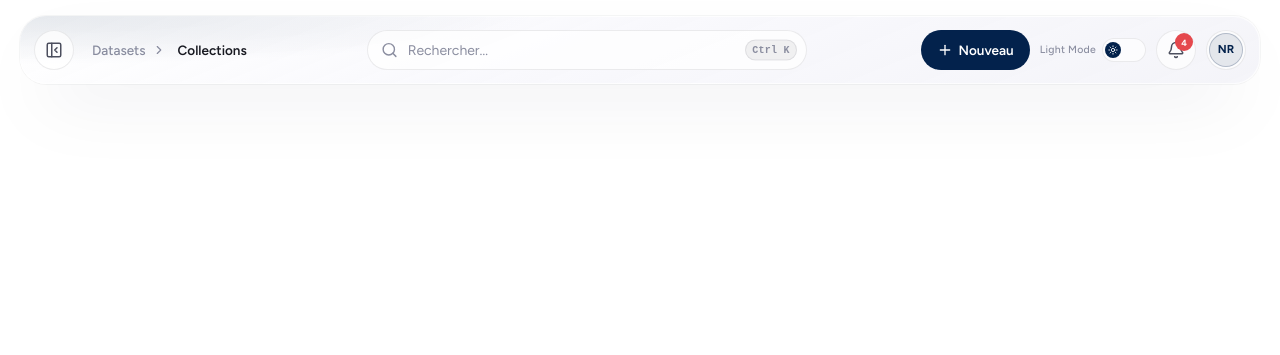
Test: Navbar — menus déroulants › ouvre les notifications et referme au clic extérieur
Click the button named "Notifications".
click(1176, 50)  # box [1156,30,1196,70]
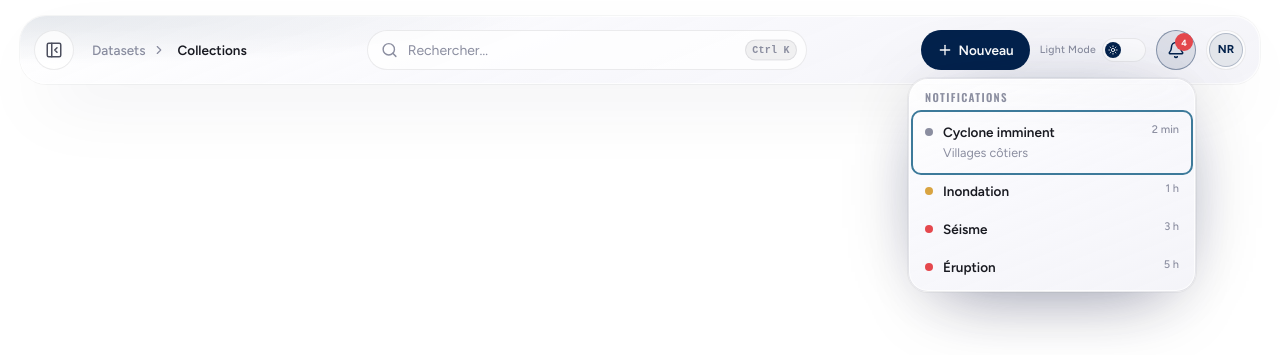
expect the menu "Notifications" is shown: met, box [908,78,1196,292]
expect the menu item "Cyclone imminent Villages côtiers 2 min" is shown: met, box [915,114,1189,170]
Click the element that starts with "Datasets".
click(640, 44)  # box [0,0,1279,88]
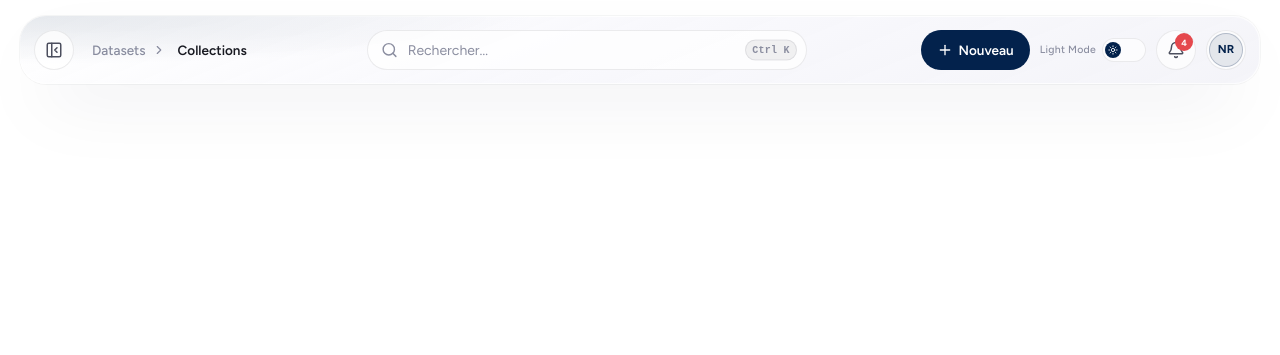
expect the text "Notifications" is gone: met
